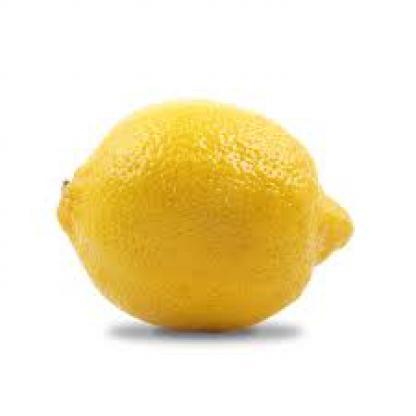lemon: (50, 92, 355, 340)
